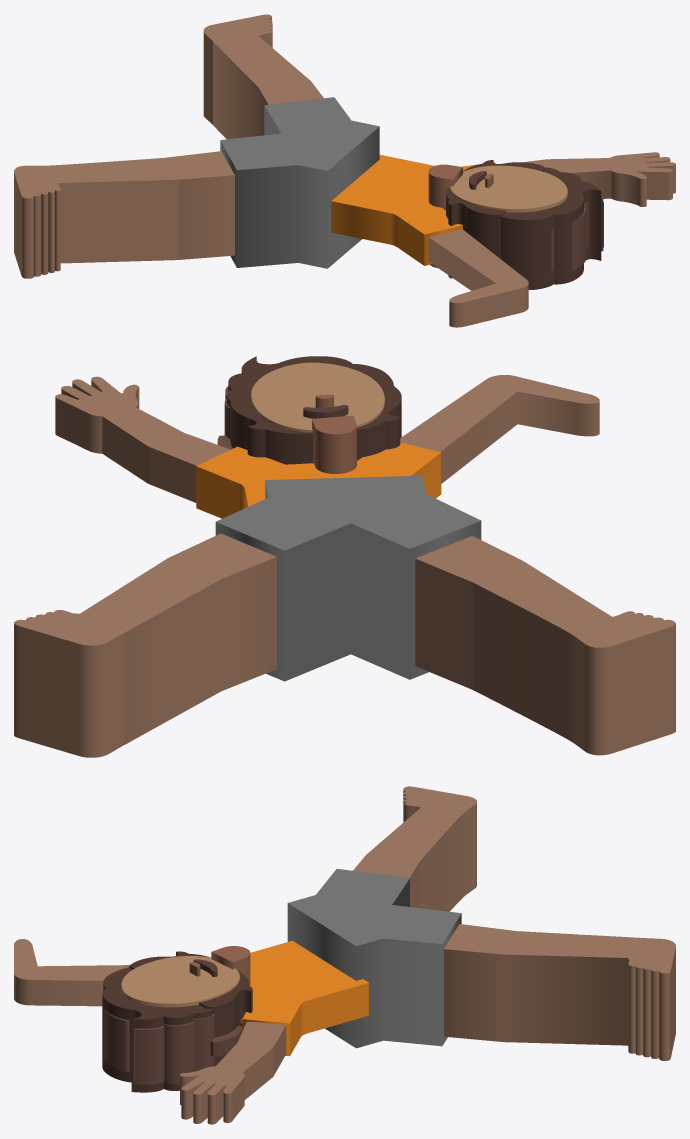
File: emoji_u1f938_1f3fd.glb
The picture shows the model from 3 angles, top to bottom: view 1: azimuth 30°, elevation 25°; view 2: azimuth 150°, elevation 25°; view 3: azimuth 270°, elevation 25°; orthographic projection. The views are drawn at different scales.
Visible parts, largest first — view 1: emoji_u1f938_1f3fd; view 2: emoji_u1f938_1f3fd; view 3: emoji_u1f938_1f3fd.
Part boxes in pixels (x1,y1,x2,y2): emoji_u1f938_1f3fd: (14,14,675,327); emoji_u1f938_1f3fd: (14,356,675,757); emoji_u1f938_1f3fd: (14,786,675,1124).
Bounding box in the file's own units: 0.0331 × 0.0056 × 0.0329.
